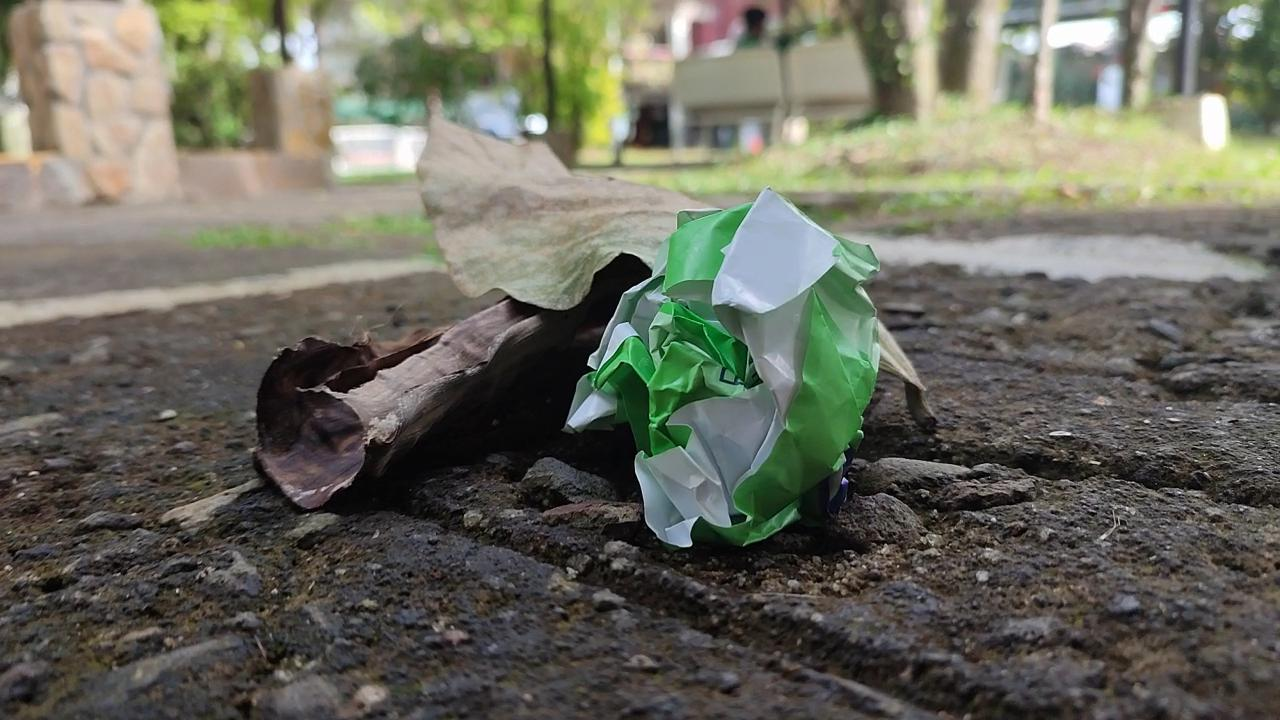Paper: (565, 181, 889, 565)
